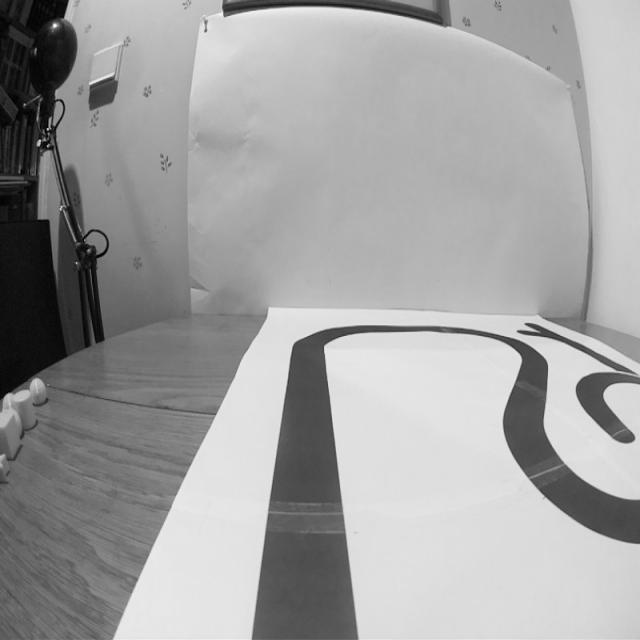lineStraight: (249, 472, 362, 640)
